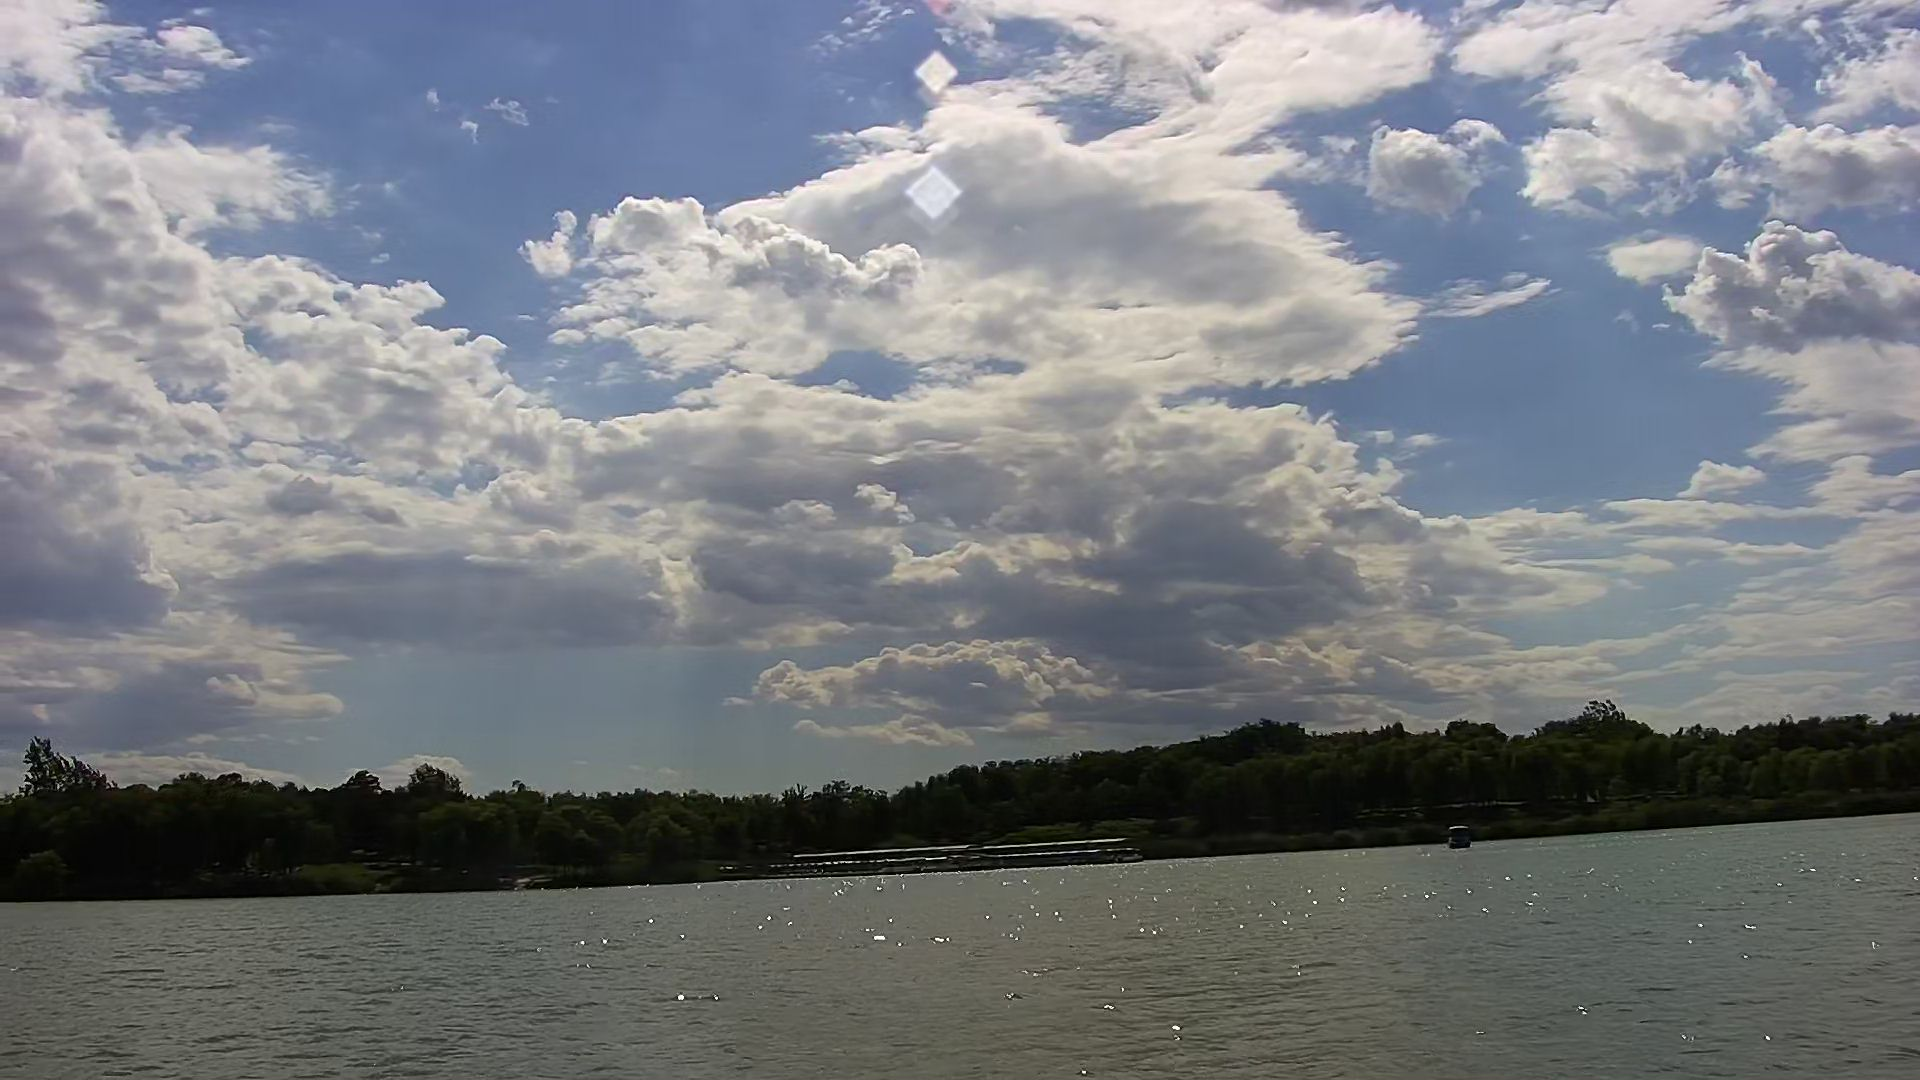boat: (1441, 820, 1484, 851)
harbor: (789, 833, 1141, 881)
